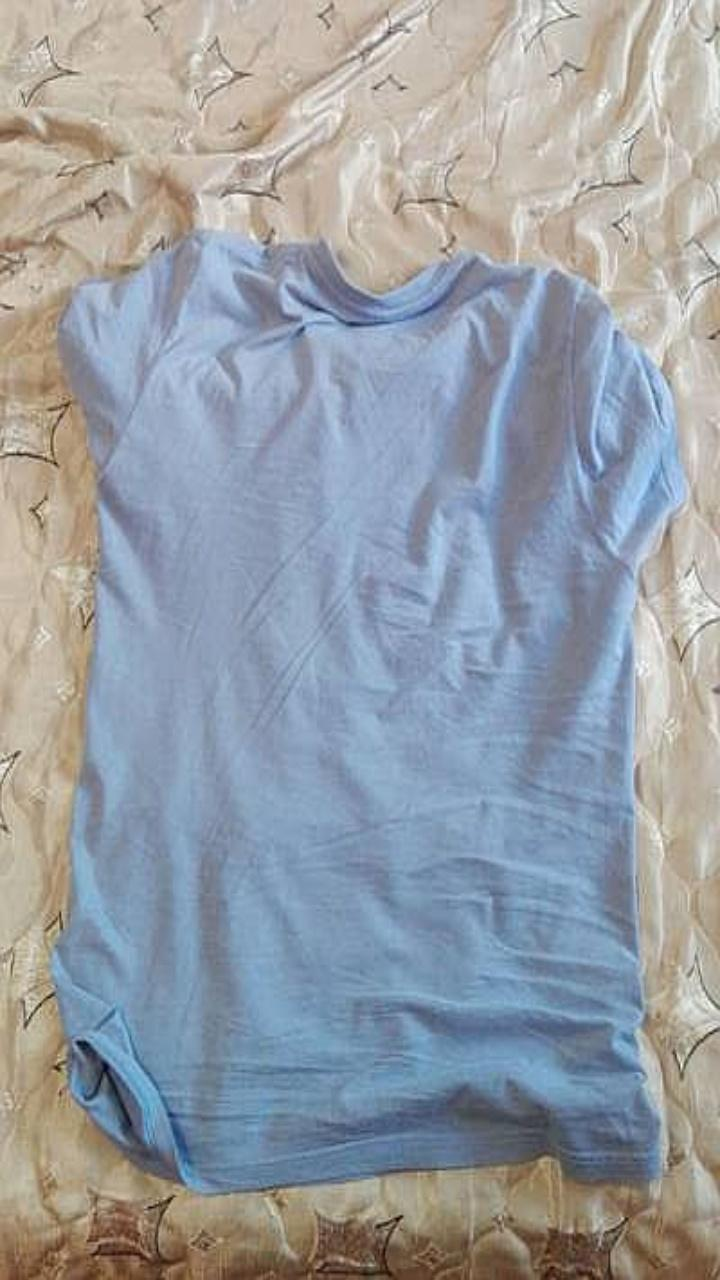T-Shirt: (51, 228, 687, 1191)
